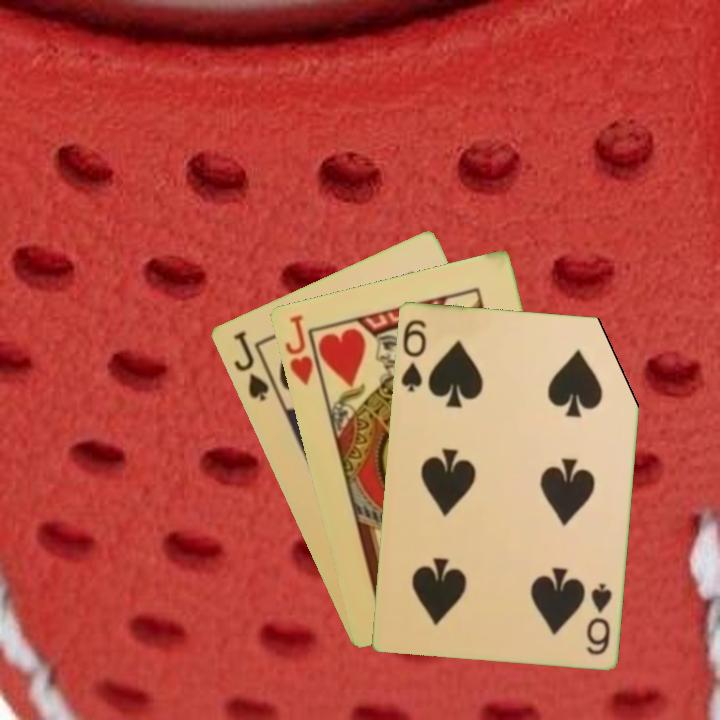6s: (582, 579, 615, 657), (397, 316, 429, 394)
Jh: (281, 311, 316, 388)
Js: (229, 327, 272, 404)
